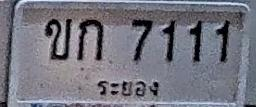1: (216, 19, 230, 62), (162, 20, 176, 62), (189, 20, 202, 62)
7: (132, 18, 152, 62)
A01: (76, 18, 104, 60)
A02: (44, 18, 72, 60)
RYG: (93, 74, 169, 105)
